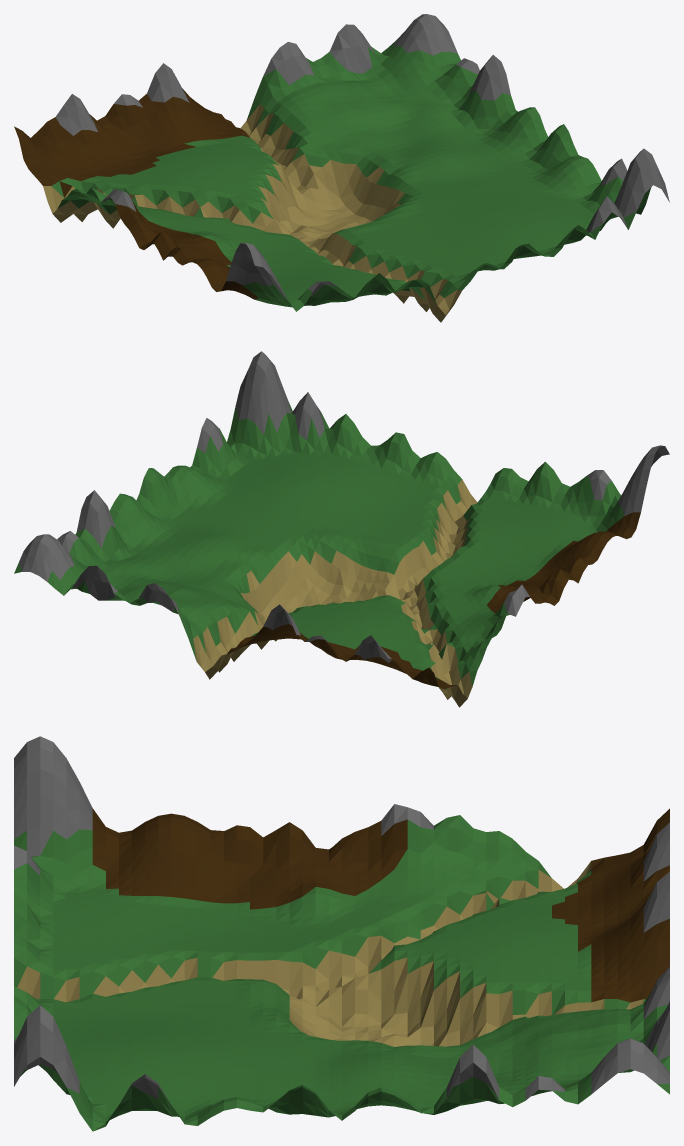
File: MapV3.fbx
The picture shows the model from 3 angles, top to bottom: view 1: azimuth 30°, elevation 25°; view 2: azimuth 150°, elevation 25°; view 3: azimuth 270°, elevation 25°; orthographic projection. The views are drawn at different scales.
Parts seen in each view (by area): view 1: pPlane1; view 2: pPlane1; view 3: pPlane1.
Part boxes in pixels (<box>): pPlane1: <box>14,14,669,322</box>; pPlane1: <box>14,351,669,707</box>; pPlane1: <box>14,736,669,1131</box>.
Size of the model in its own units: 120 by 38.28 by 120.
